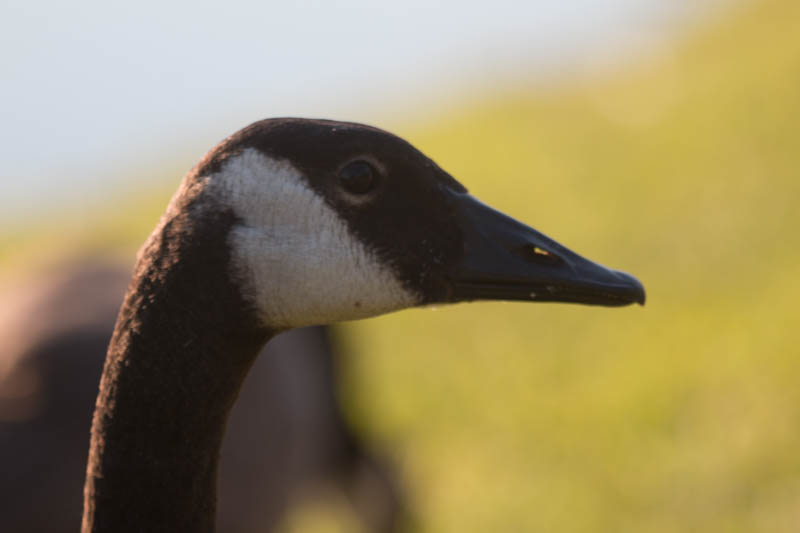goose-head: (160, 116, 646, 335)
